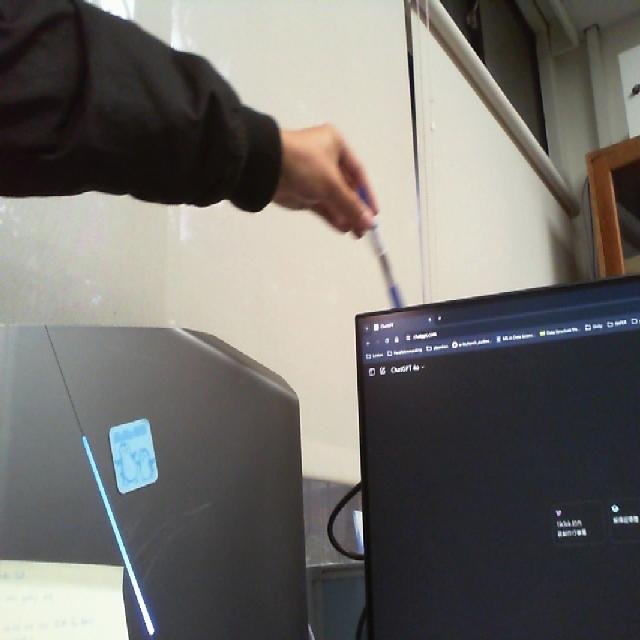Pen: (345, 166, 421, 329)
